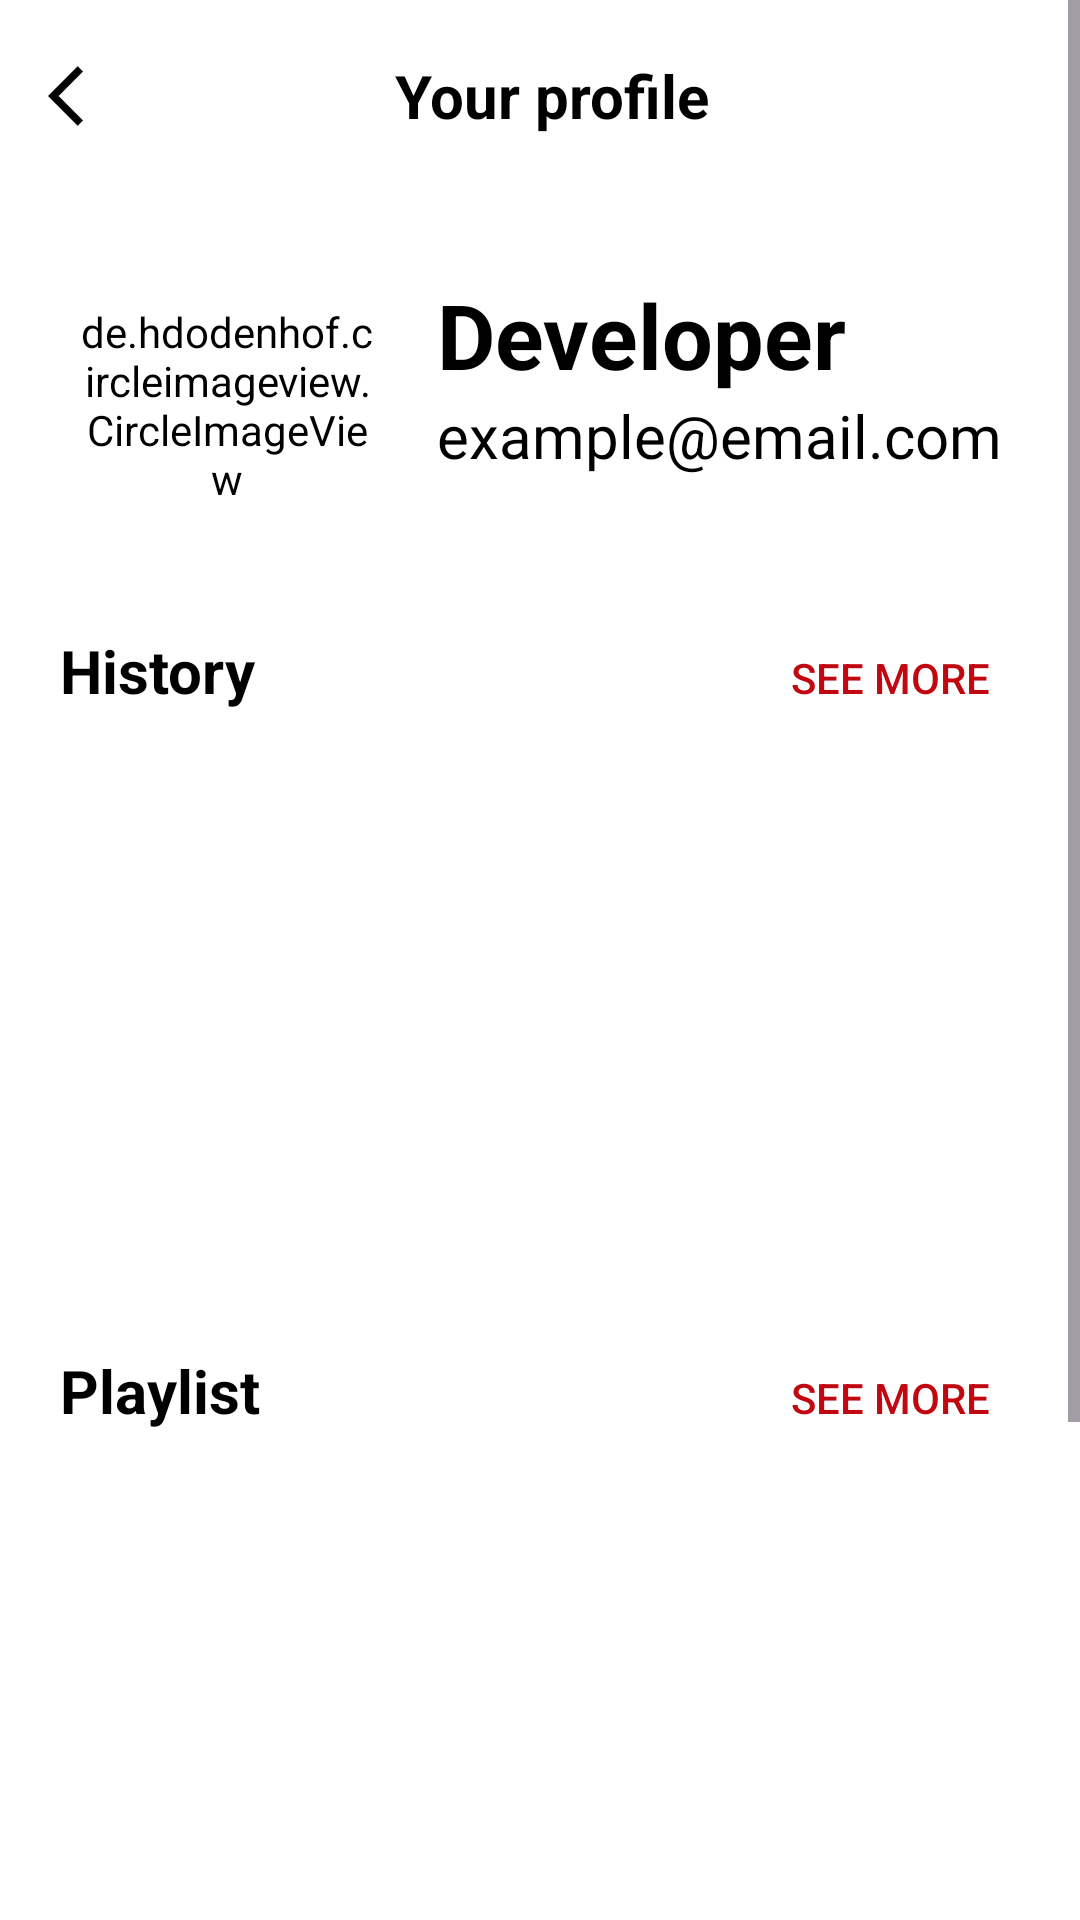

Named icons in this screenshot (1080x1920) and their bounding boxes, [left=x1, top=y1, right=x2, bottom=y2]:
arrow back: [left=48, top=66, right=83, bottom=126]
